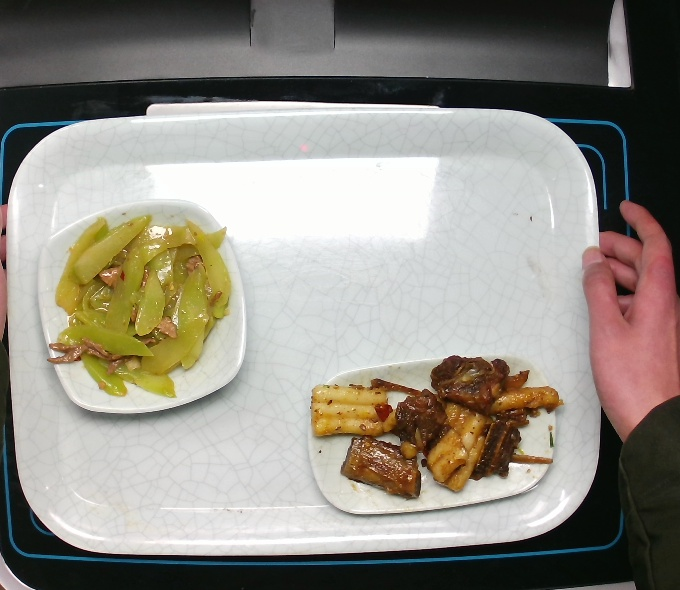wcq-NianGaoZaiPai: (305, 355, 562, 498)
wcq-WoSun: (45, 211, 241, 399)
